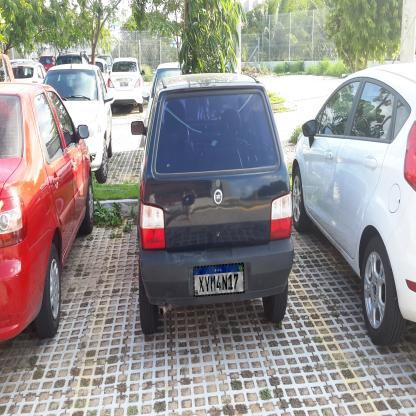PlacaM: (193, 263, 245, 297)
